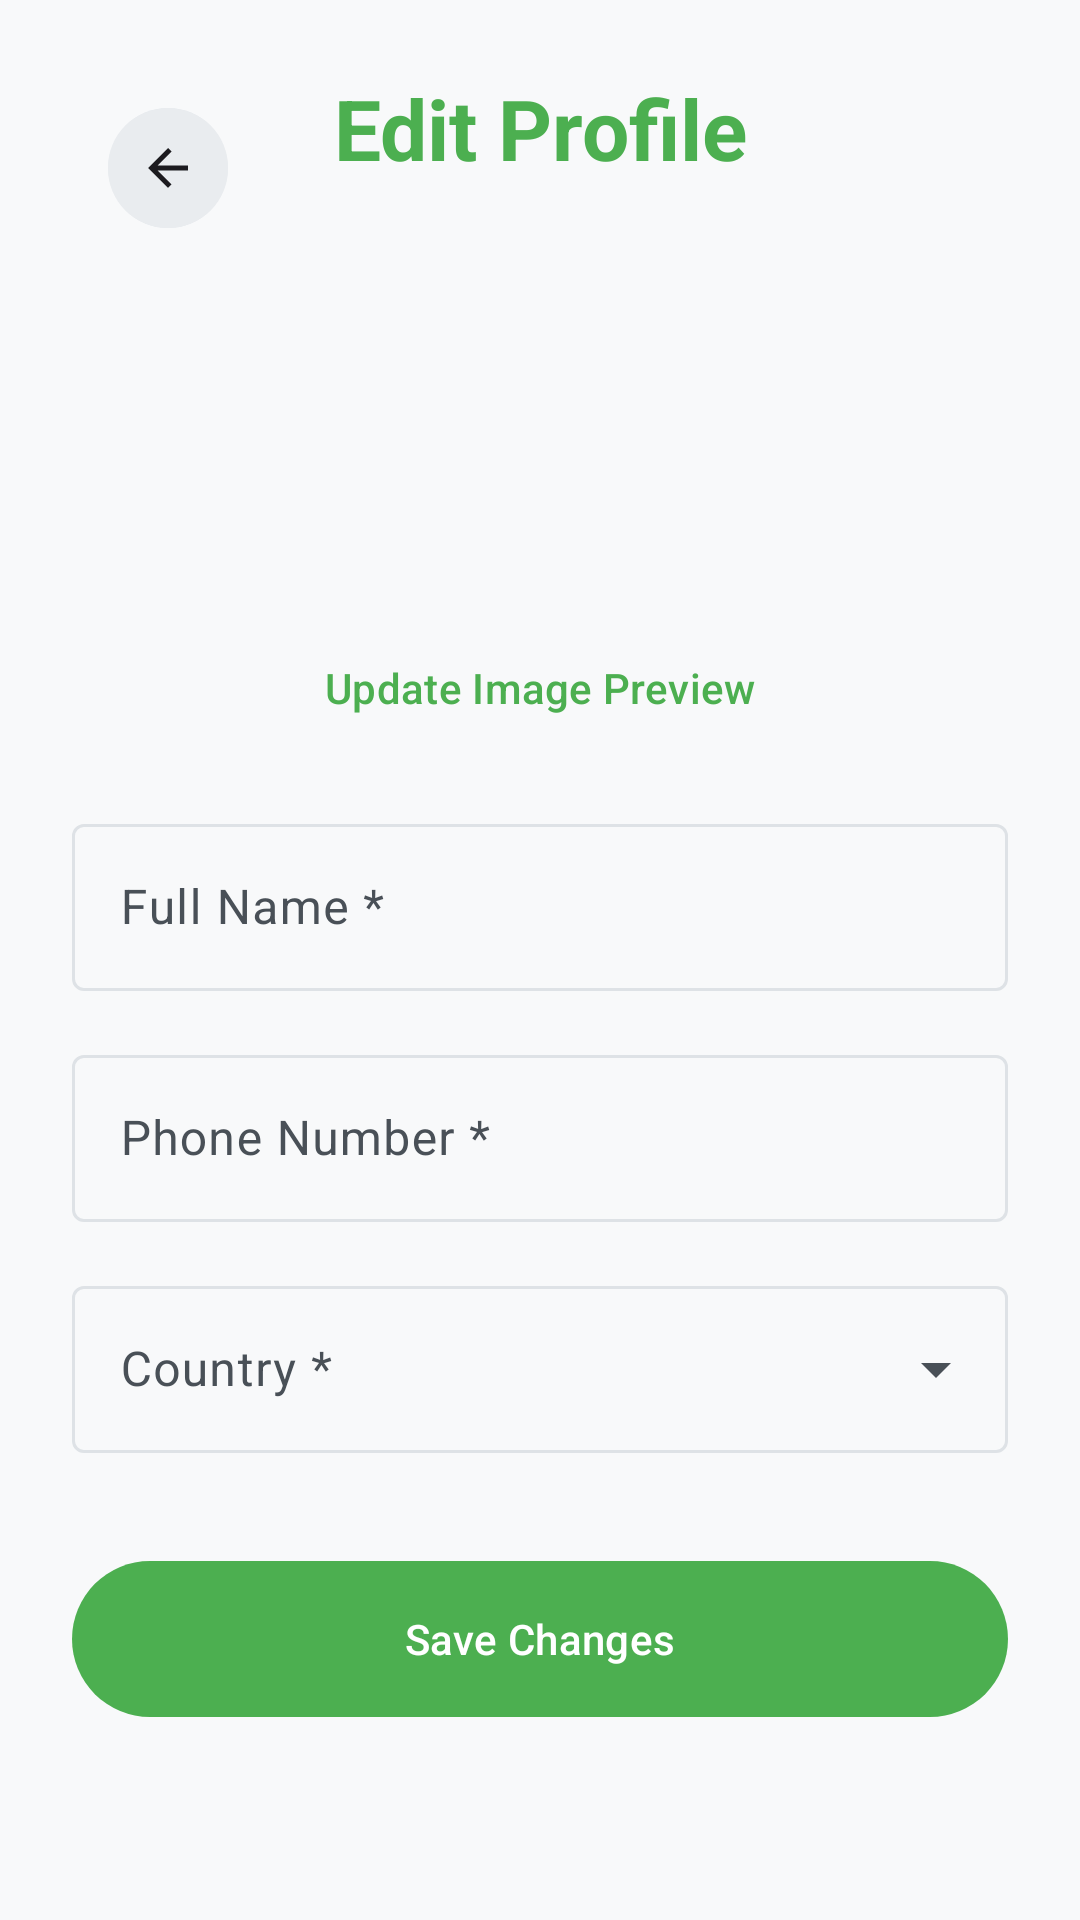

Icons on this 1080px×1920px Android screen, each with its box as (x1, y1, x2, y2):
Back: (108, 108, 228, 228)
